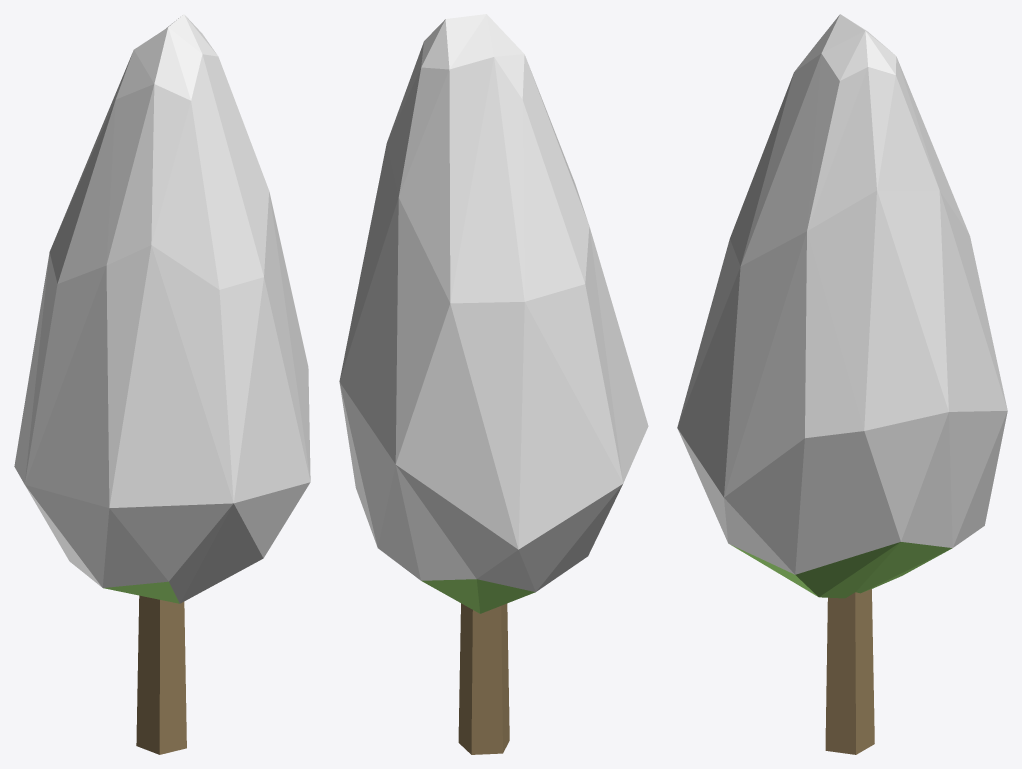
The model's file is Thuja_Tree_s_Snow_02.fbx.
3 views of the same model, side by side, from view 1: azimuth 30°, elevation 25°; view 2: azimuth 150°, elevation 25°; view 3: azimuth 270°, elevation 25° (orthographic).
Visible parts, largest first — view 1: Thuja_Tree_s_Snow_02; view 2: Thuja_Tree_s_Snow_02; view 3: Thuja_Tree_s_Snow_02.
Part boxes in pixels (left/top/right/bottom): Thuja_Tree_s_Snow_02: left=14, top=14, right=310, bottom=754; Thuja_Tree_s_Snow_02: left=339, top=14, right=648, bottom=754; Thuja_Tree_s_Snow_02: left=677, top=14, right=1007, bottom=754.
Bounding box in the file's own units: 138 × 359 × 147.
